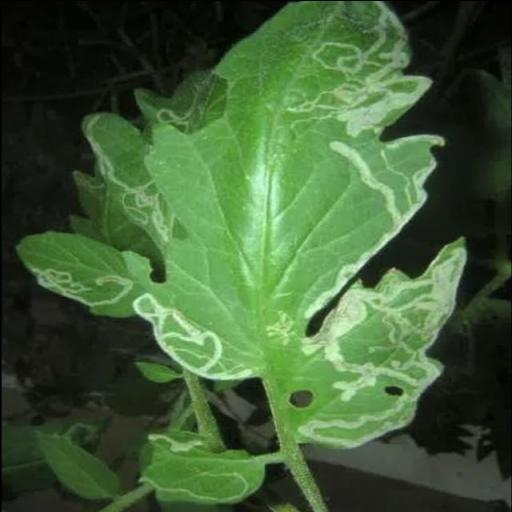disease_tomato: (132, 0, 470, 448), (13, 231, 137, 320)
